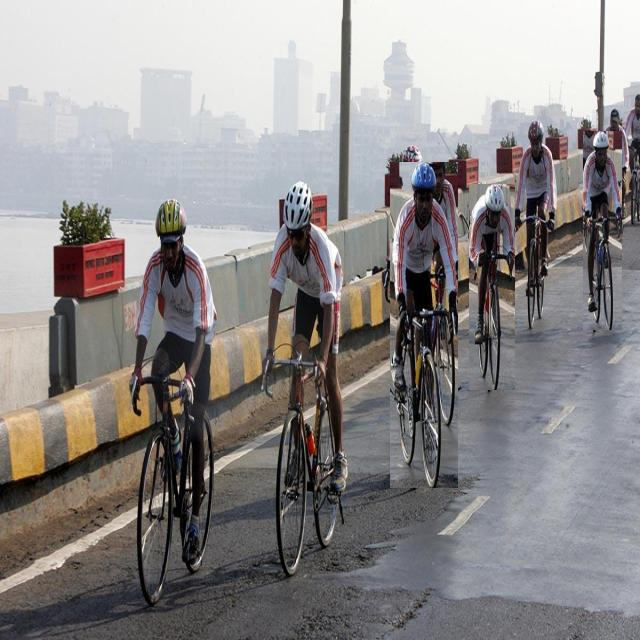bicycle: (130, 200, 216, 603), (262, 182, 348, 574), (390, 162, 458, 488), (469, 185, 515, 390), (514, 120, 556, 327), (583, 131, 621, 330)
